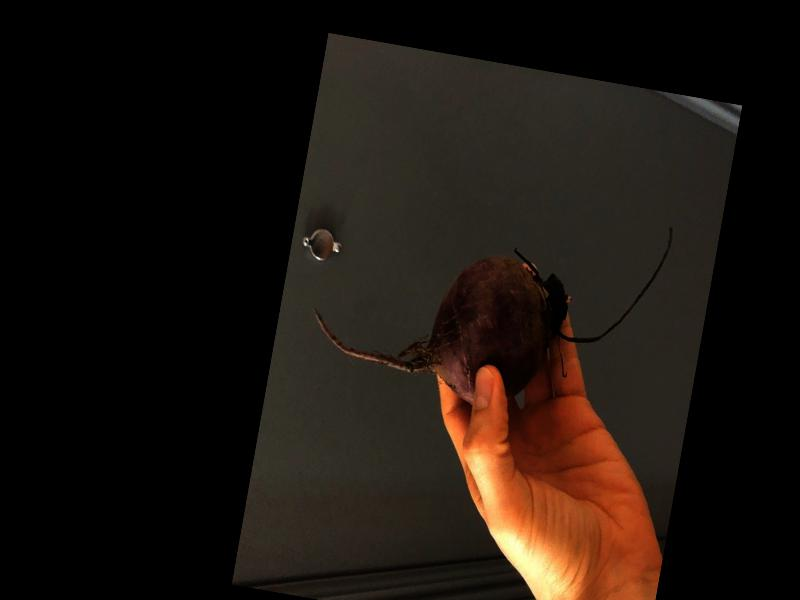Beet: (303, 166, 674, 433)
